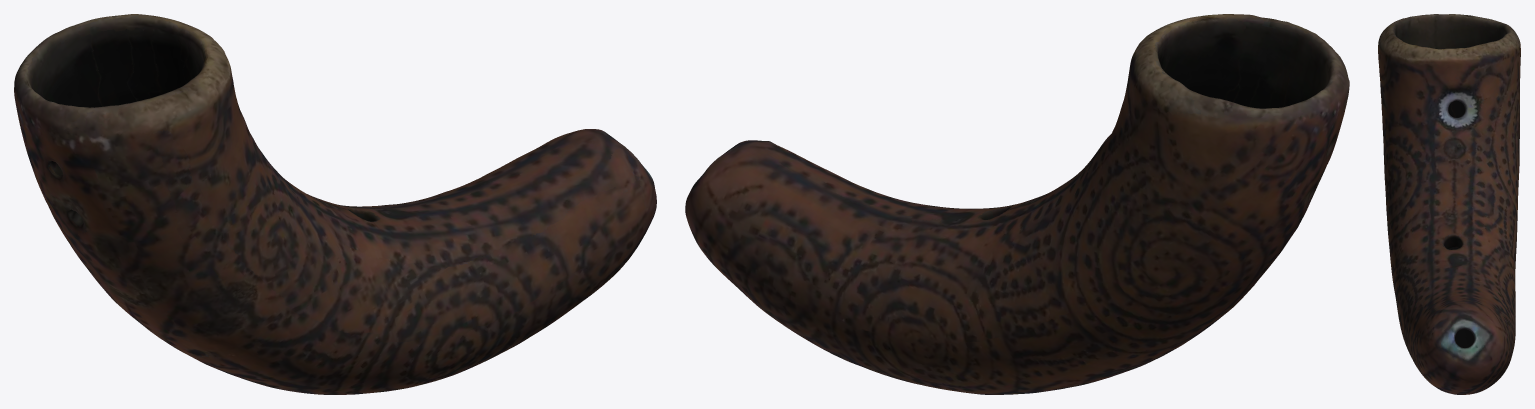
Rendered from preview.glb.
The picture shows the model from 3 angles, left to right: view 1: azimuth 30°, elevation 25°; view 2: azimuth 150°, elevation 25°; view 3: azimuth 270°, elevation 25°; orthographic projection. The views are drawn at different scales.
Visible parts, largest first — view 1: Object_2; view 2: Object_2; view 3: Object_2.
Part boxes in pixels (<box>): Object_2: <box>14,14,656,394</box>; Object_2: <box>685,14,1349,394</box>; Object_2: <box>1378,14,1520,394</box>.
Size of the model in its own units: 1.07 by 0.6483 by 0.3301.
1 material, 1 textured.
